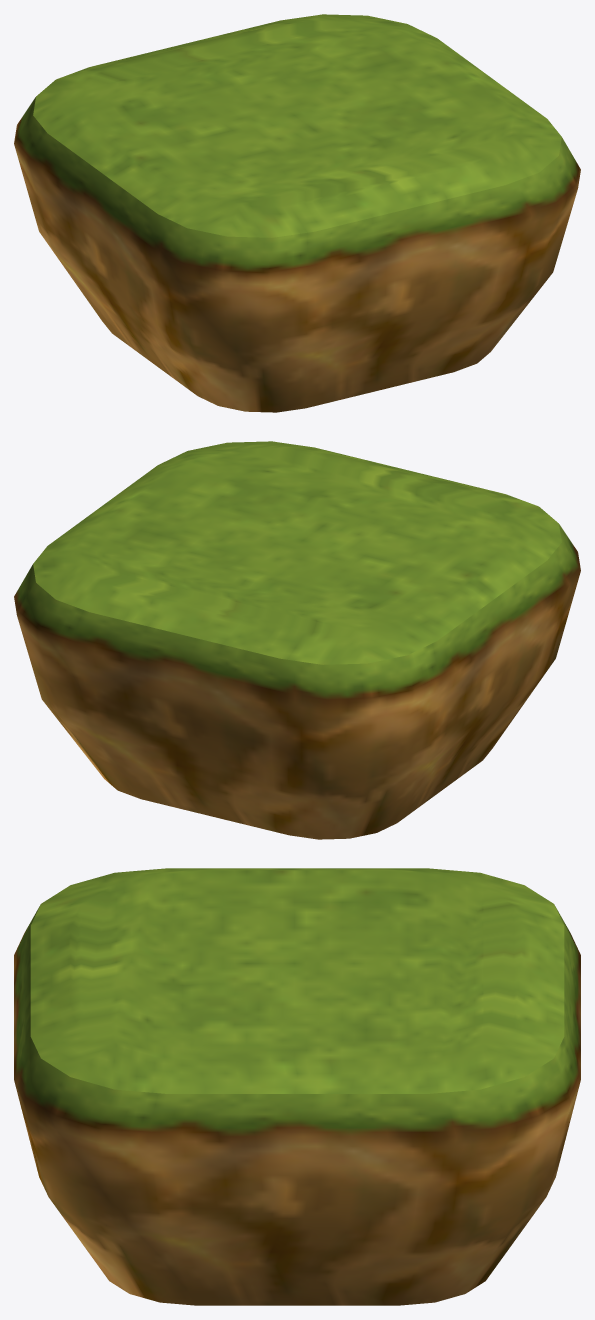
File: Floating_floor01_11.fbx
The picture shows the model from 3 angles, top to bottom: view 1: azimuth 30°, elevation 25°; view 2: azimuth 150°, elevation 25°; view 3: azimuth 270°, elevation 25°; orthographic projection. The views are drawn at different scales.
Visible parts, largest first — view 1: Floating_floor01_11; view 2: Floating_floor01_11; view 3: Floating_floor01_11.
Boxes of the visible parts, x1=… form: Floating_floor01_11: x1=14, y1=14, x2=580, y2=412; Floating_floor01_11: x1=14, y1=441, x2=580, y2=839; Floating_floor01_11: x1=14, y1=868, x2=580, y2=1305.
Size of the model in its own units: 1 by 0.5 by 1.
